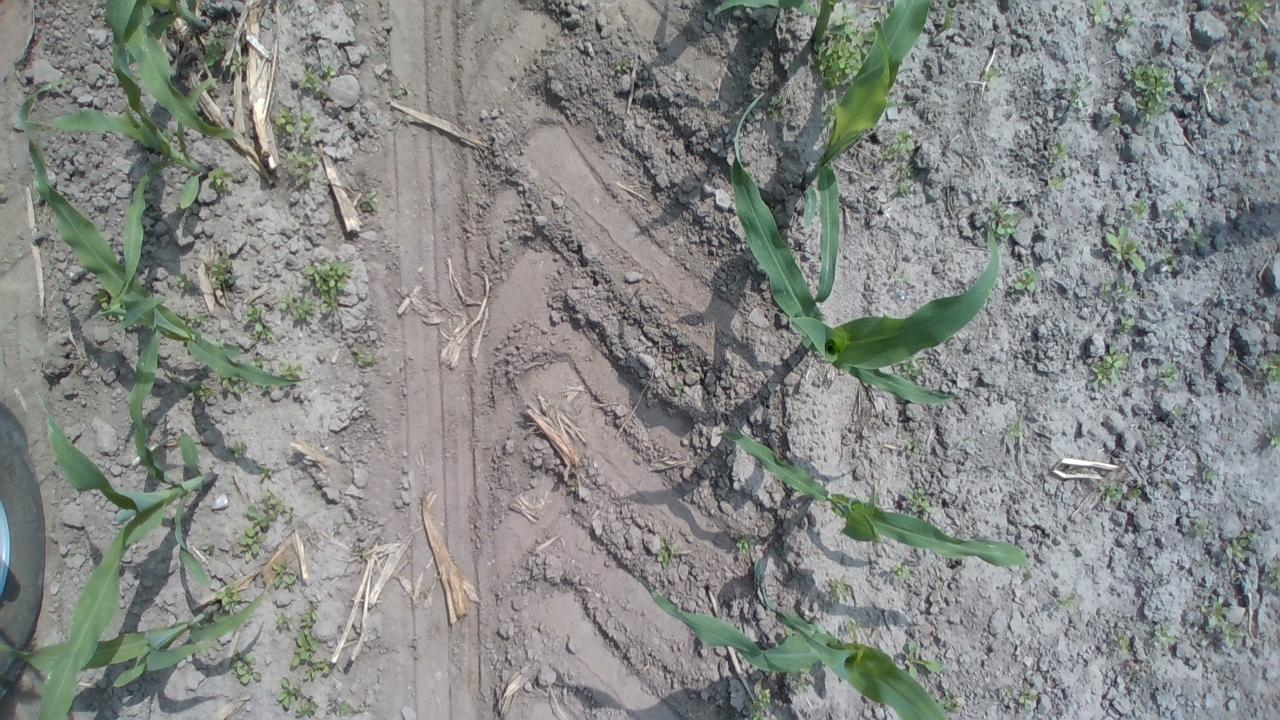Maize: (17, 75, 301, 388), (730, 92, 1000, 408), (37, 330, 215, 720), (24, 31, 214, 319), (715, 430, 1032, 581), (642, 586, 946, 720), (800, 0, 928, 301), (0, 588, 268, 688), (126, 0, 241, 141), (710, 0, 954, 36)
Weeds: (810, 2, 881, 90), (237, 490, 284, 561), (1128, 63, 1174, 121), (304, 258, 351, 314), (1104, 224, 1146, 274), (290, 604, 320, 667), (904, 640, 943, 680), (1091, 346, 1127, 388), (986, 202, 1021, 242), (240, 304, 274, 342), (230, 648, 263, 686), (286, 149, 321, 183), (878, 129, 915, 160), (203, 20, 226, 66), (1200, 596, 1229, 626), (299, 69, 328, 99), (890, 164, 914, 200), (210, 252, 235, 286), (276, 676, 300, 710), (1226, 531, 1254, 559), (272, 560, 299, 589), (216, 582, 242, 612), (904, 487, 934, 513), (1236, 0, 1264, 27), (208, 166, 235, 194), (186, 380, 218, 403), (748, 688, 771, 720), (302, 658, 332, 682), (896, 354, 926, 378), (656, 537, 679, 568), (936, 689, 964, 714), (1259, 352, 1280, 384), (274, 104, 298, 132), (300, 109, 320, 142), (764, 92, 786, 121), (828, 580, 851, 605), (276, 359, 302, 381), (1013, 270, 1041, 290), (1098, 481, 1122, 504), (293, 297, 316, 321), (1153, 624, 1175, 649), (1049, 140, 1070, 166), (1128, 198, 1150, 222), (89, 286, 111, 310), (819, 99, 837, 128), (218, 373, 244, 393), (324, 698, 354, 715), (172, 312, 210, 325), (228, 47, 245, 76), (734, 533, 756, 555), (352, 346, 374, 368), (790, 669, 810, 693), (1018, 687, 1038, 710), (1158, 362, 1177, 386), (1226, 621, 1244, 646), (1252, 60, 1272, 82), (1206, 72, 1230, 90), (1002, 422, 1022, 443), (1088, 0, 1106, 23), (1112, 632, 1130, 655), (845, 620, 863, 643), (983, 66, 1000, 90), (1098, 278, 1114, 302), (173, 272, 194, 290), (1189, 228, 1206, 250), (1169, 200, 1188, 219), (1117, 315, 1135, 335), (774, 627, 792, 647), (296, 702, 318, 718), (1070, 87, 1086, 108), (1162, 248, 1176, 272), (1116, 280, 1137, 296), (1056, 594, 1077, 610), (230, 440, 247, 459), (1117, 15, 1136, 32), (890, 270, 910, 286), (362, 191, 378, 211), (322, 62, 338, 81), (892, 562, 908, 580), (278, 291, 293, 310), (276, 612, 292, 628), (906, 437, 920, 454), (1269, 567, 1280, 588), (1050, 176, 1066, 190), (1268, 428, 1280, 445), (1194, 520, 1208, 534), (250, 355, 264, 367), (1110, 112, 1122, 126), (1004, 683, 1014, 699), (616, 59, 628, 72), (1128, 488, 1141, 499), (392, 87, 403, 100), (1201, 470, 1215, 480), (702, 100, 712, 114), (354, 546, 367, 556), (259, 468, 272, 478), (674, 382, 684, 394), (671, 360, 680, 372), (1225, 354, 1238, 362), (1172, 409, 1184, 417), (286, 510, 294, 520), (202, 543, 210, 552), (1152, 441, 1162, 448)
